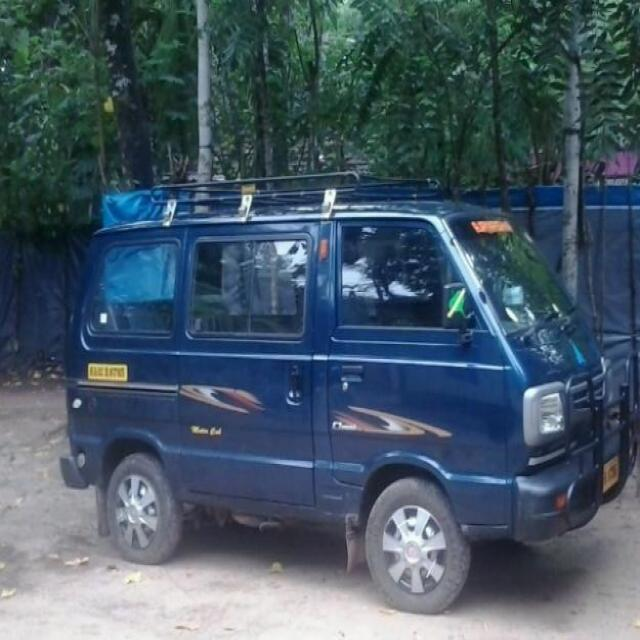van: (52, 162, 639, 621), (0, 372, 639, 638)
